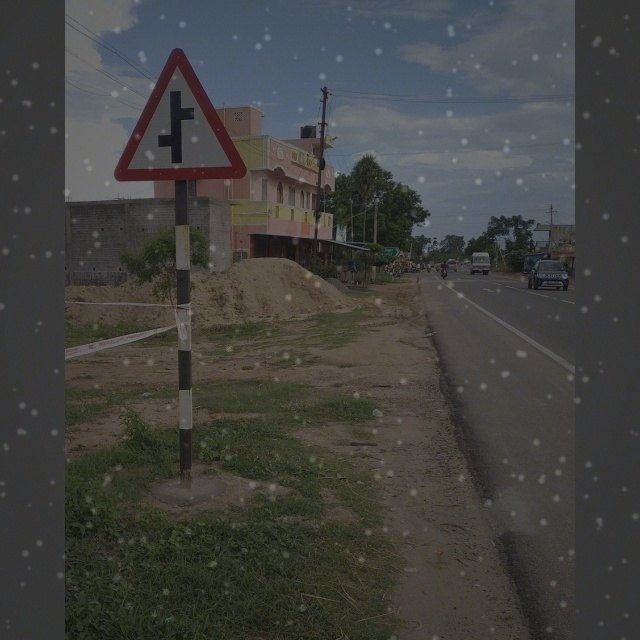Staggered_Intersection: (117, 37, 250, 190)
